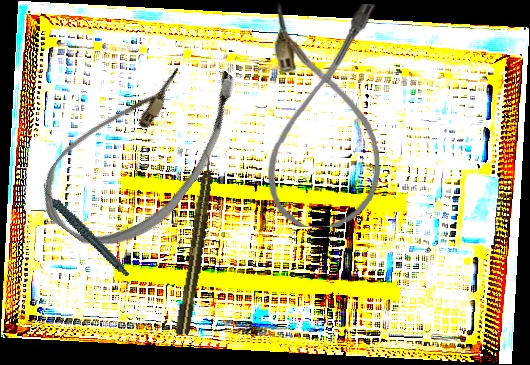Cannula: (26, 22, 259, 275), (267, 2, 383, 228)
Handpiece: (39, 169, 131, 291), (173, 149, 220, 339)
